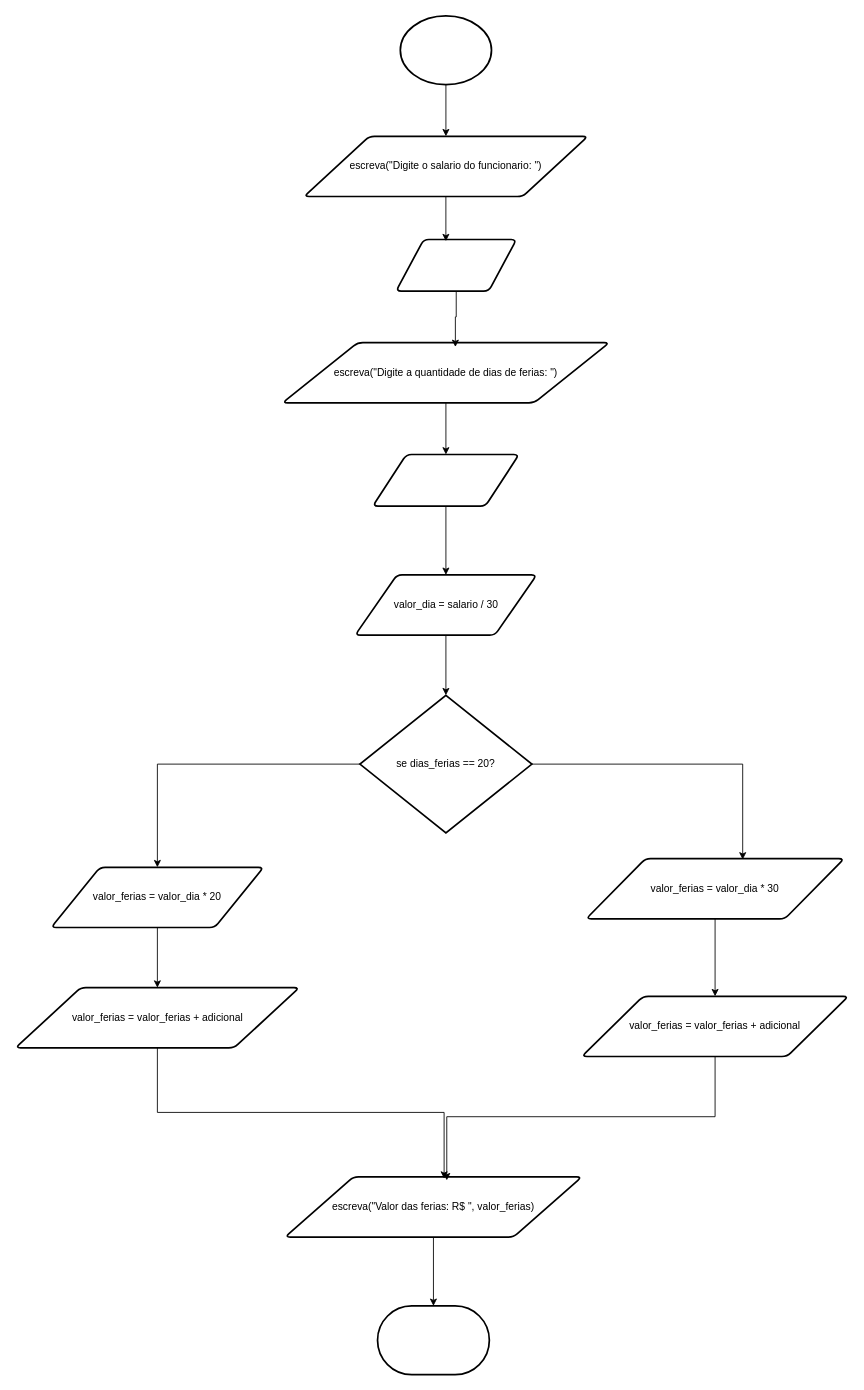
Image size: 864x1390. Some labels were removed from this diagram. The box of each missing label's shape, as (x1, y1, x2, y2) in pixels:
fim: (376, 1305, 490, 1375)
inicio: (399, 15, 492, 85)
leia(dias_ferias): (372, 453, 519, 507)
leia(salario): (395, 238, 517, 292)
